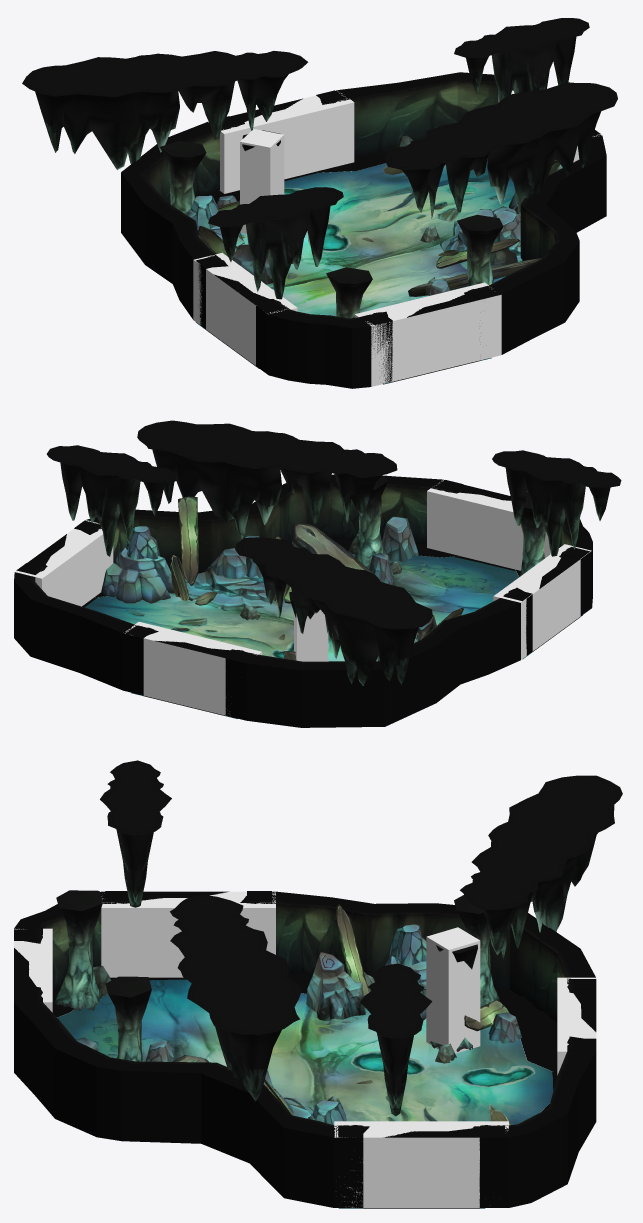
The model's file is Dungeon_073_QuestBossRoom.fbx.
3 renders of one model, top to bottom at view 1: azimuth 30°, elevation 25°; view 2: azimuth 150°, elevation 25°; view 3: azimuth 270°, elevation 25°, orthographic. The views are drawn at different scales.
Parts seen in each view (by area): view 1: Dun_073_Room_003_top, Dun_073_Room_003_wall, DoorWay_NavMask (3) (×3), Dun_073_Room_003_ground, Dun_073_OB_Pillar, DoorWay_NavMask (1) (×2), cube_061_pillar, Dun_073_Door_002 (×3), Dun_073_OB_Rubble, Dun_073_OB_Big_stone, Dun_073_OB_Stone02, Dun_073_Room_003_shadow (+3 smaller); view 2: Dun_073_Room_003_top, Dun_073_Room_003_wall, DoorWay_NavMask (3) (×4), Dun_073_Room_003_ground, DoorWay_NavMask (1) (×3), Dun_073_OB_Stone02, Dun_073_Door_002 (×4), Dun_073_OB_Rubble, Dun_073_OB_Big_stone, Dun_073_OB_Pillar, cube_061_pillar, Dun_073_OB_Small_rubble (+2 smaller); view 3: Dun_073_Room_003_wall, Dun_073_Room_003_top, Dun_073_Room_003_ground, DoorWay_NavMask (3) (×4), Dun_073_OB_Pillar, cube_061_pillar, Dun_073_Door_002 (×4), Dun_073_Room_003_shadow, Dun_073_OB_Stone02, Dun_073_OB_Stone03, DoorWay_NavMask (1), Dun_073_OB_Rubble (+3 smaller).
Part boxes in pixels (<box>): Dun_073_Room_003_top: <box>22,18,617,299</box>; Dun_073_Room_003_wall: <box>121,72,606,388</box>; DoorWay_NavMask (3) (×3): <box>193,91,501,386</box>; Dun_073_Room_003_ground: <box>196,158,515,384</box>; Dun_073_OB_Pillar: <box>160,130,503,318</box>; DoorWay_NavMask (1) (×2): <box>206,267,479,381</box>; cube_061_pillar: <box>240,129,284,233</box>; Dun_073_Door_002 (×3): <box>195,90,497,382</box>; Dun_073_OB_Rubble: <box>198,160,560,296</box>; Dun_073_OB_Big_stone: <box>440,206,522,269</box>; Dun_073_OB_Stone02: <box>185,164,562,295</box>; Dun_073_Room_003_shadow: <box>205,152,386,203</box>; Dun_073_Room_003_top: <box>47,420,621,685</box>; Dun_073_Room_003_wall: <box>14,474,592,727</box>; DoorWay_NavMask (3) (×4): <box>15,480,591,715</box>; Dun_073_Room_003_ground: <box>85,552,582,718</box>; DoorWay_NavMask (1) (×3): <box>46,529,580,712</box>; Dun_073_OB_Stone02: <box>101,516,418,661</box>; Dun_073_Door_002 (×4): <box>16,480,590,715</box>; Dun_073_OB_Rubble: <box>178,496,463,660</box>; Dun_073_OB_Big_stone: <box>184,535,274,610</box>; Dun_073_OB_Pillar: <box>289,475,545,661</box>; cube_061_pillar: <box>294,609,328,661</box>; Dun_073_OB_Small_rubble: <box>170,555,289,639</box>; Dun_073_Room_003_wall: <box>14,891,596,1207</box>; Dun_073_Room_003_top: <box>100,760,622,1116</box>; Dun_073_Room_003_ground: <box>57,979,553,1208</box>; DoorWay_NavMask (3) (×4): <box>14,891,596,1207</box>; Dun_073_OB_Pillar: <box>54,890,499,1061</box>; cube_061_pillar: <box>426,927,480,1053</box>; Dun_073_Door_002 (×4): <box>14,891,596,1208</box>; Dun_073_Room_003_shadow: <box>52,973,557,1112</box>; Dun_073_OB_Stone02: <box>75,924,426,1125</box>; Dun_073_OB_Stone03: <box>306,952,365,1021</box>; DoorWay_NavMask (1): <box>363,1125,479,1207</box>; Dun_073_OB_Rubble: <box>172,904,511,1125</box>.
Size of what is drawn, in the model's own units: 17.49 by 5.2 by 15.84.
